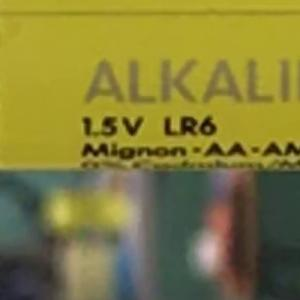ALK: (78, 64, 195, 111)
